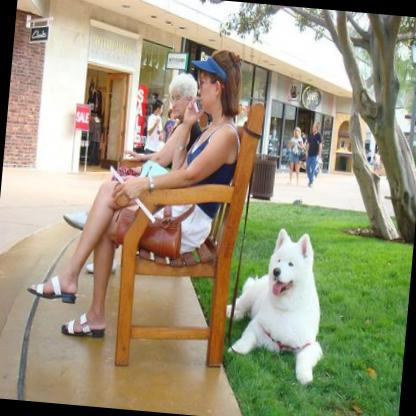Samoyed: (220, 224, 332, 384)
